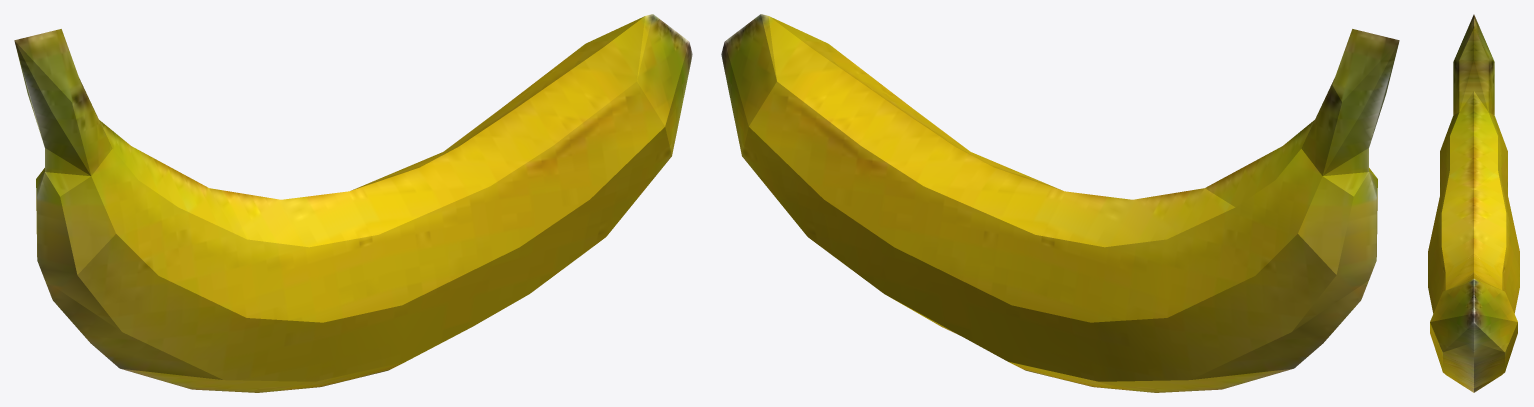
Rendered from banana.dae.
3 views of the same model, side by side, from view 1: azimuth 30°, elevation 25°; view 2: azimuth 150°, elevation 25°; view 3: azimuth 270°, elevation 25° (orthographic). The views are drawn at different scales.
Visible parts, largest first — view 1: SketchUp; view 2: SketchUp; view 3: SketchUp.
Part boxes in pixels (left/top/right/bottom): SketchUp: left=14, top=14, right=692, bottom=392; SketchUp: left=721, top=14, right=1399, bottom=392; SketchUp: left=1428, top=14, right=1519, bottom=392.
Bounding box in the file's own units: 73.58 × 14.24 × 43.69.
1 material, 1 textured.
